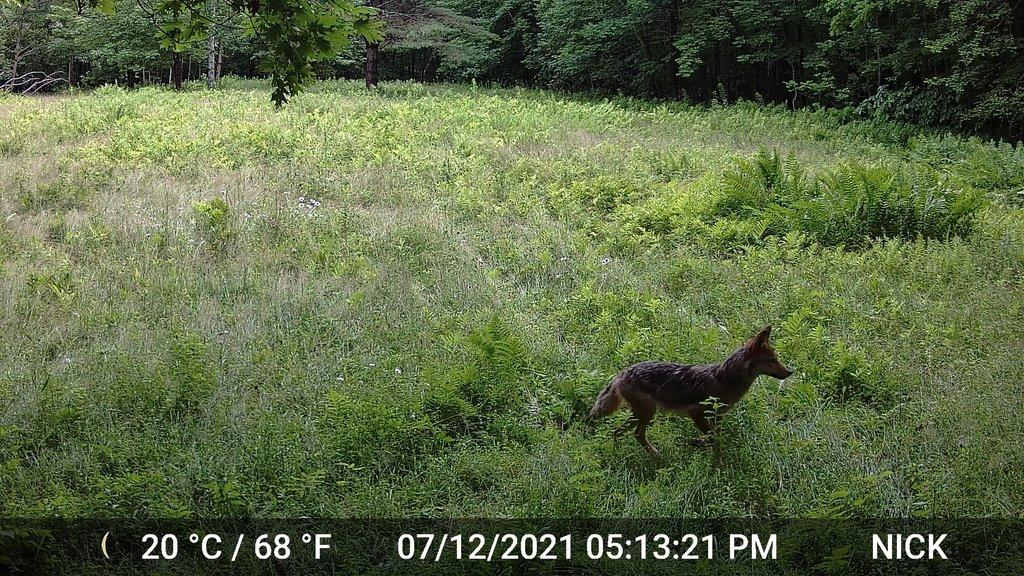Coyote: (584, 321, 797, 468)
